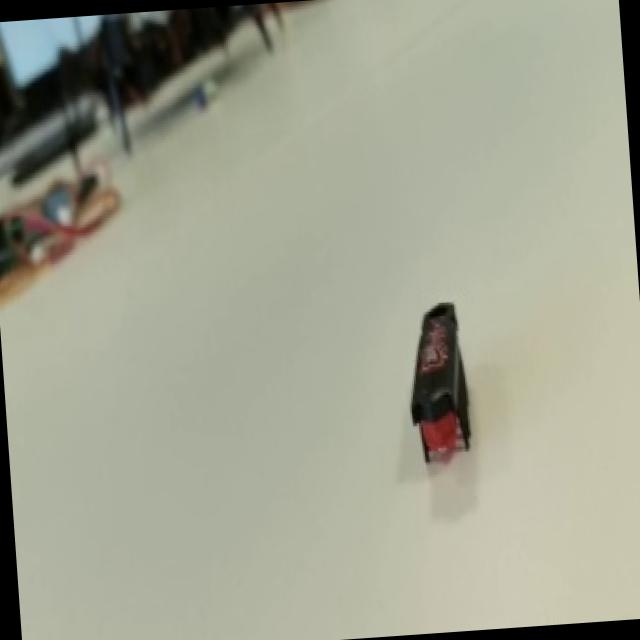2_NanoBug_Negro: (378, 278, 489, 494)
